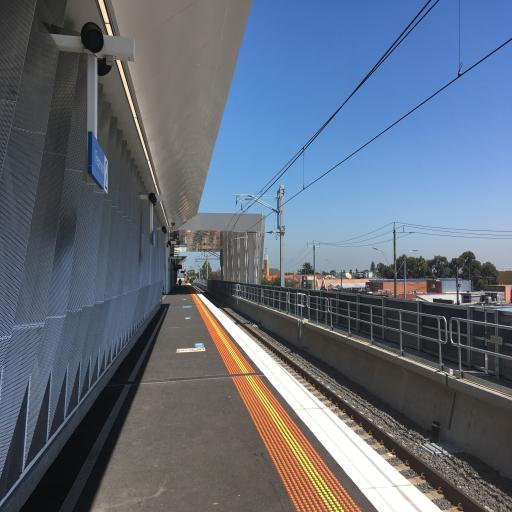platform_edge: (192, 293, 441, 512)
